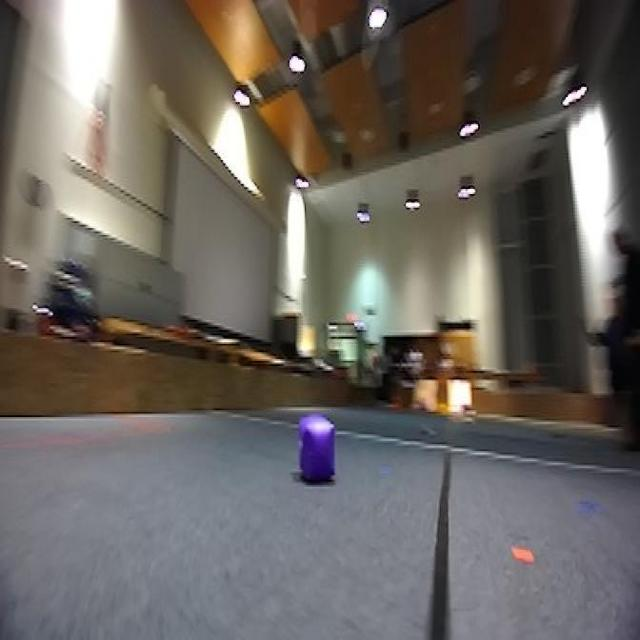frc_cube: (295, 412, 340, 487)
